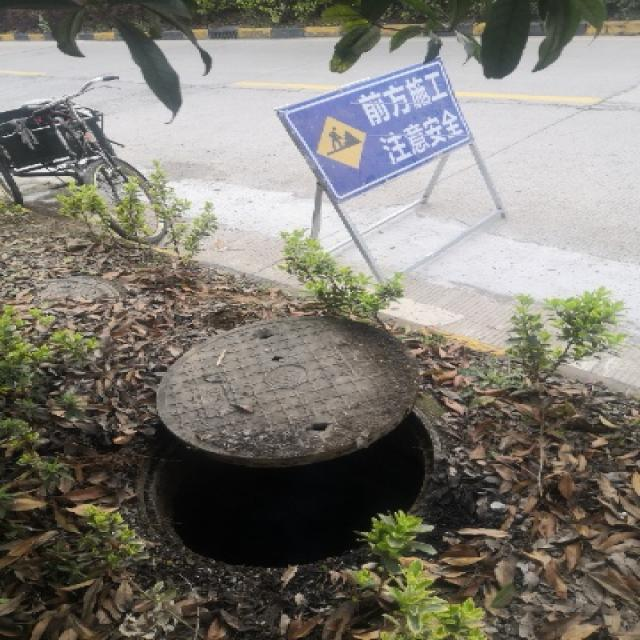Faulty: (111, 302, 470, 587)
